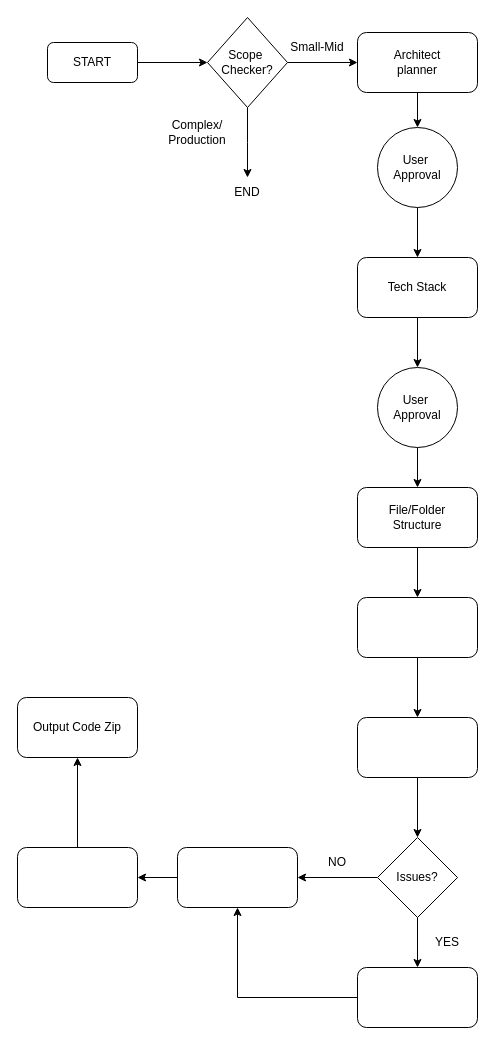
Image size: 495x1045. Some labels were removed from this diagram. Each missing label, with the box of its shape:
Auditor (Fixing Code): (356, 966, 478, 1028)
Code Builder: (356, 596, 478, 658)
Dependency Analyzer: (176, 846, 298, 908)
Packager: (16, 846, 138, 908)
Quality Guard: (356, 716, 478, 778)
